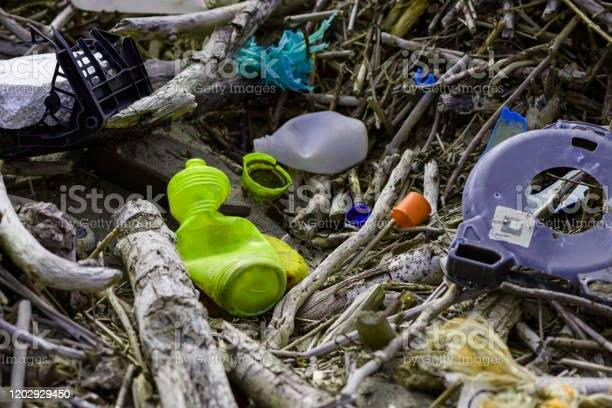Plastic: (169, 154, 291, 314), (246, 108, 371, 180)
